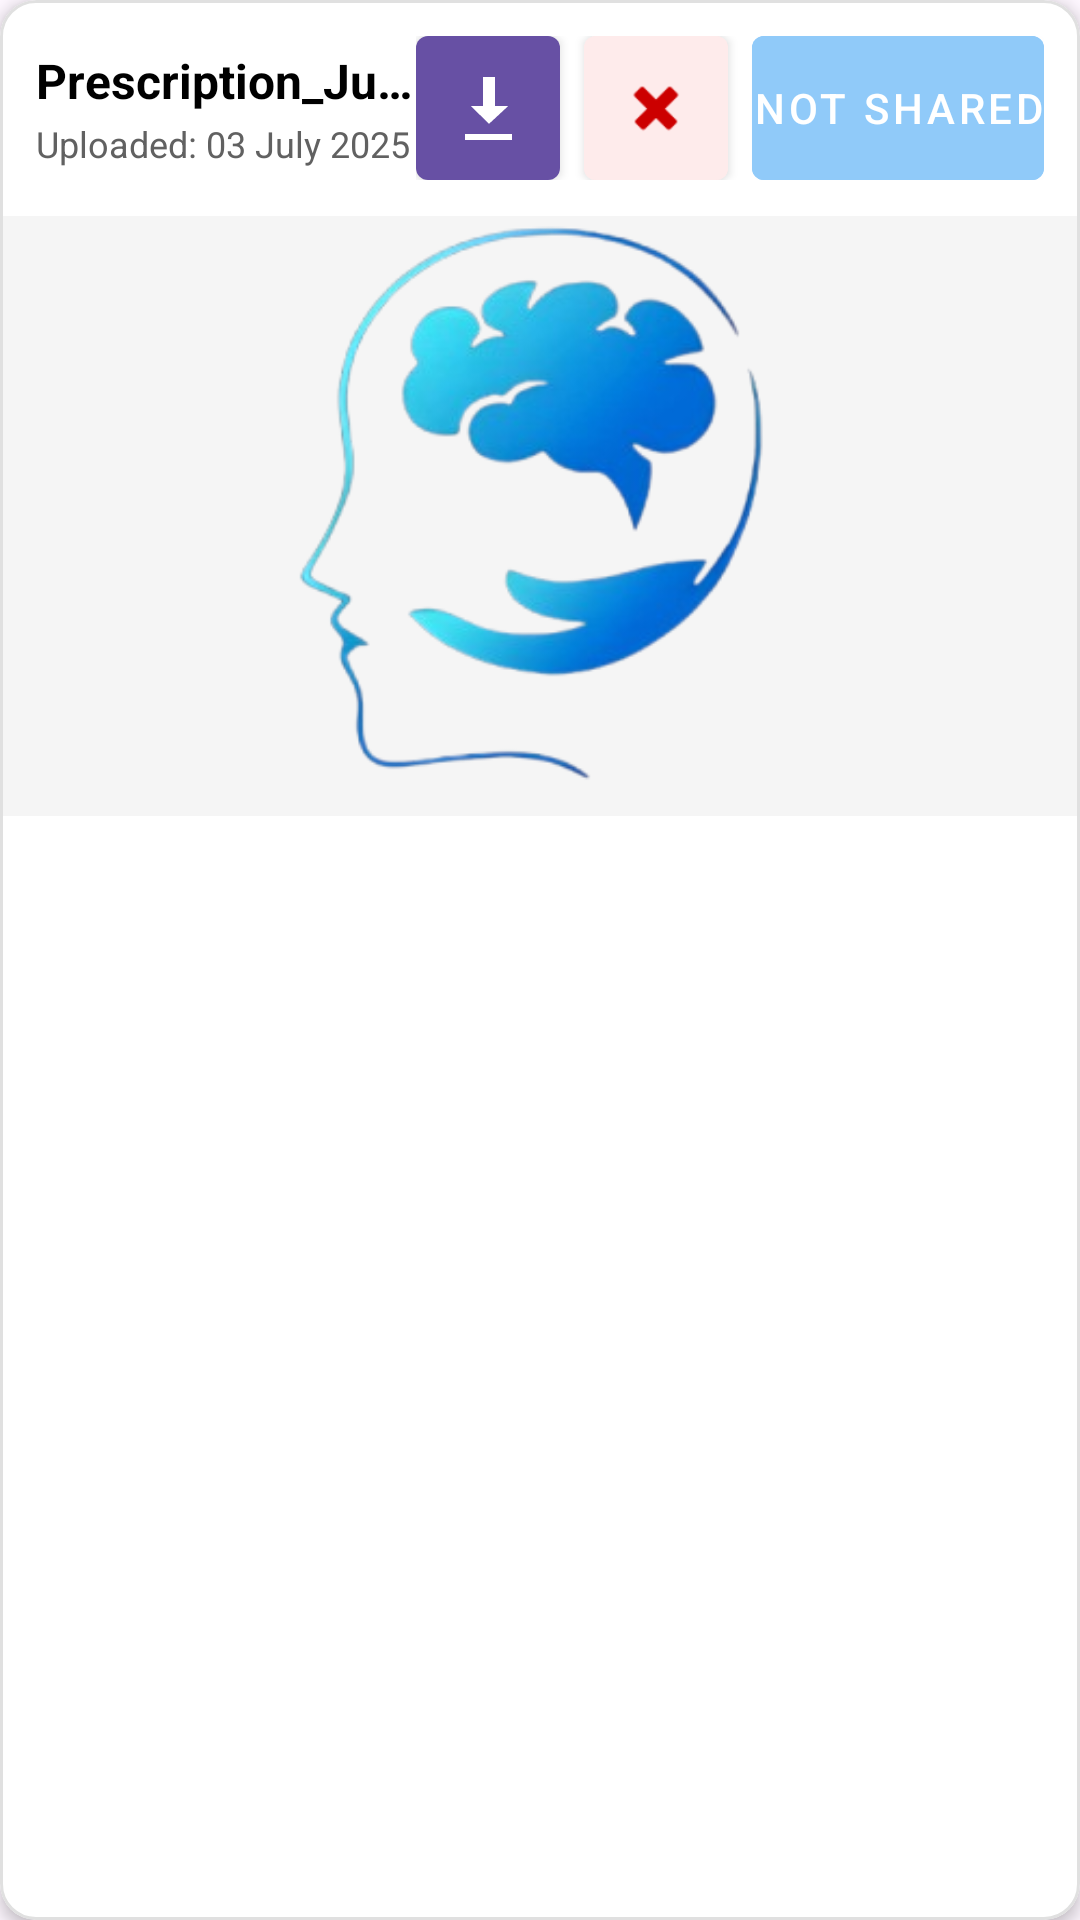

Screen size 1080px x 1920px. Icon name, then its box in pixels as (x1=x1, y1=y1, x2=x2, y2=y2):
delete: (x1=633, y1=86, x2=679, y2=131)
download: (x1=416, y1=36, x2=560, y2=180)
